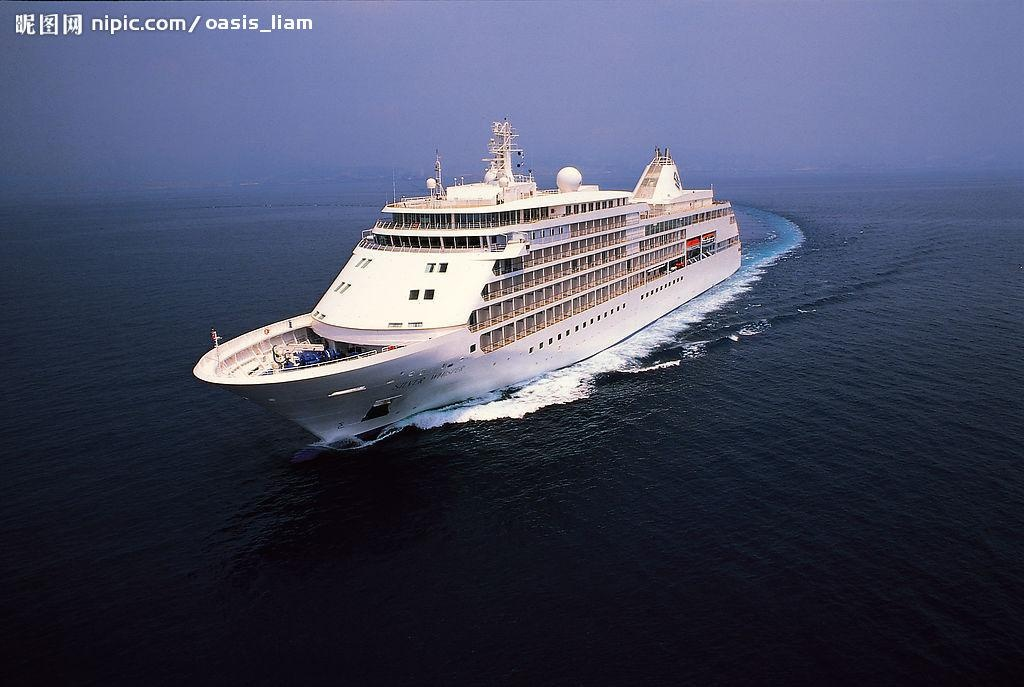youlun: (184, 115, 744, 453)
